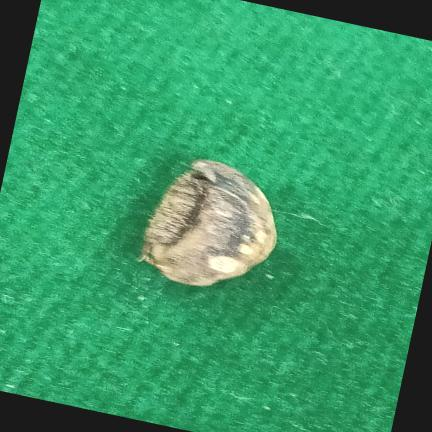partial-black: (141, 160, 276, 286)
